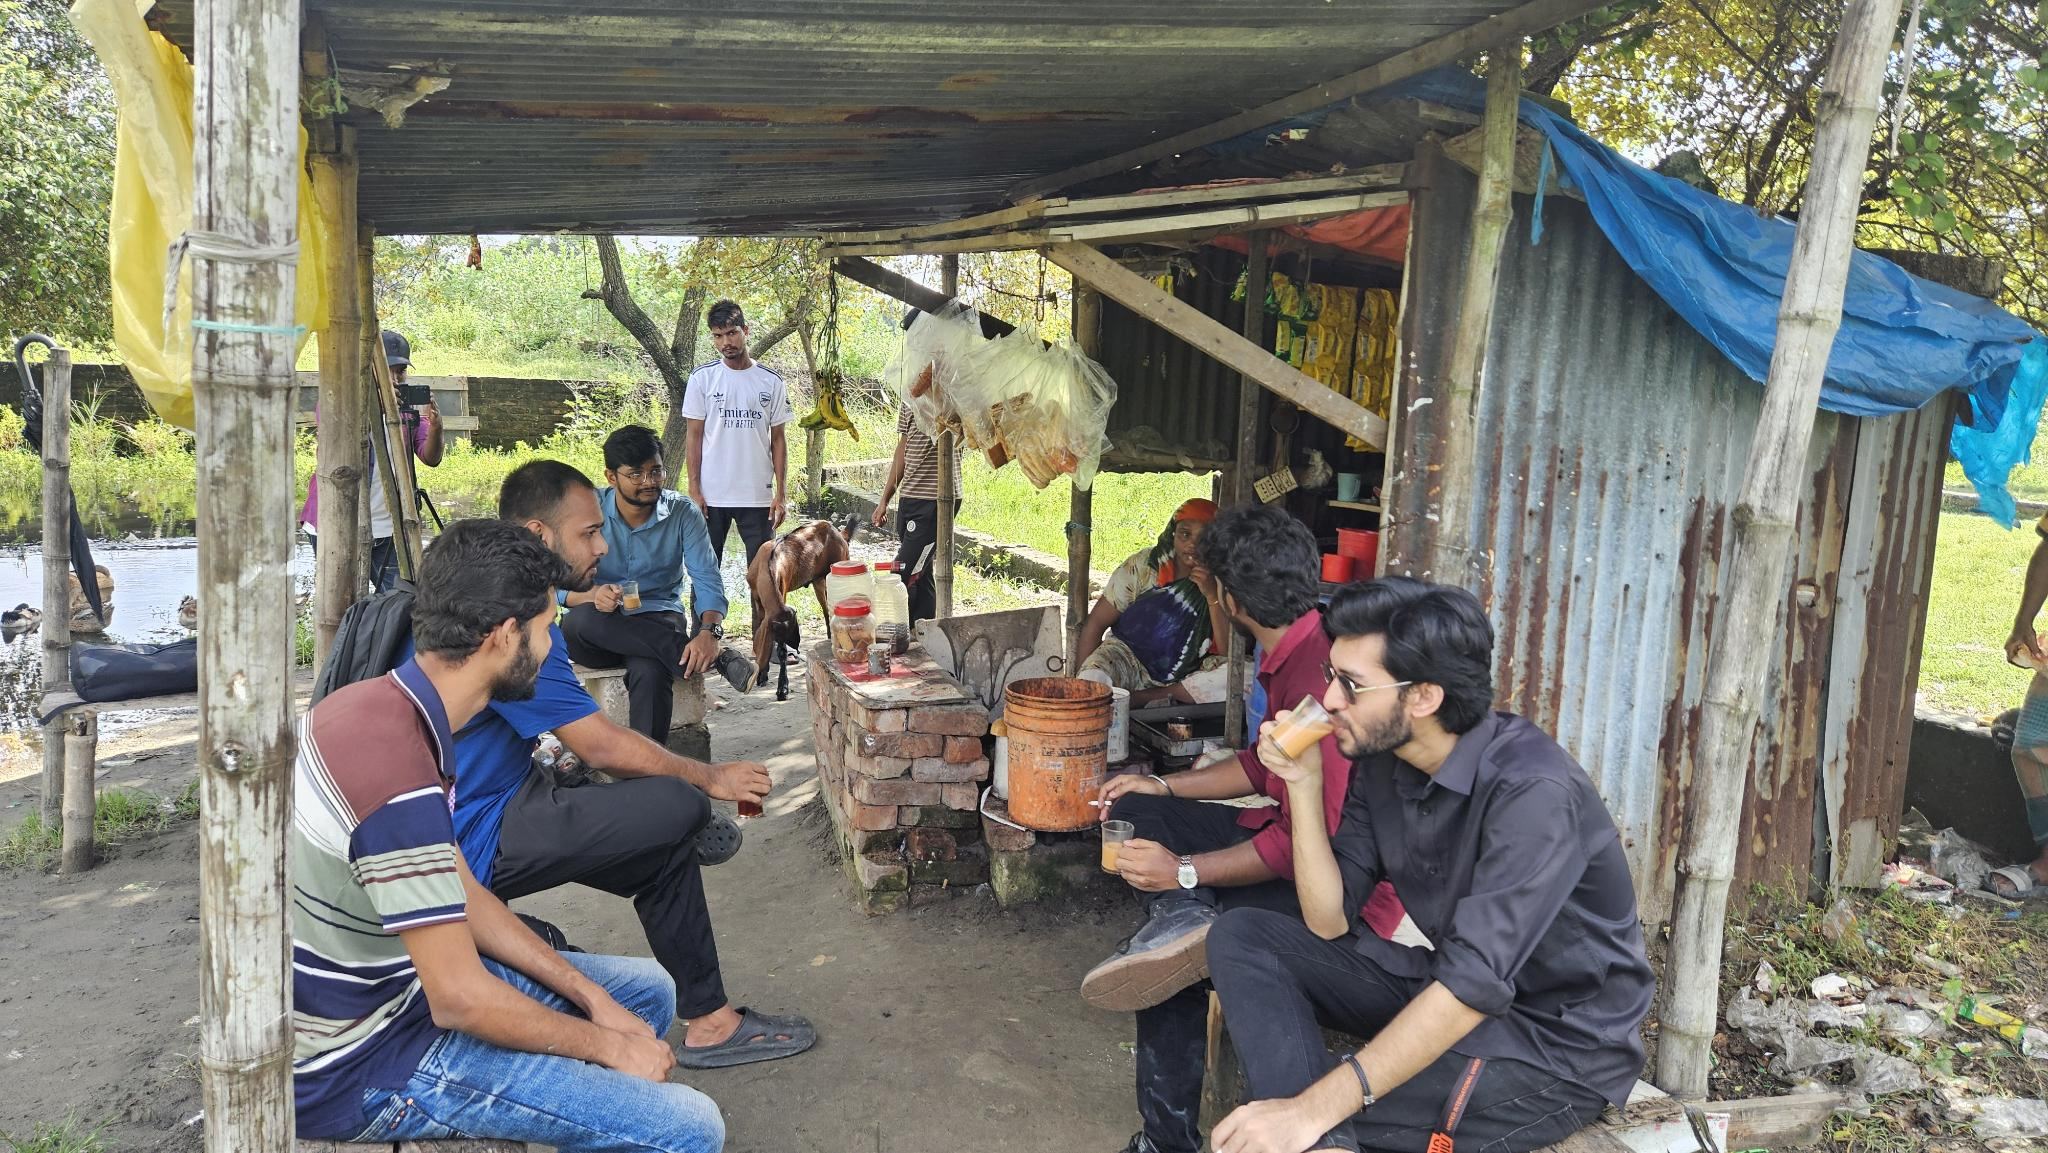cigarette: (1086, 799, 1114, 807)
nonSmoker: (309, 461, 819, 1070), (293, 519, 726, 1153), (1203, 581, 1654, 1153), (563, 425, 760, 744), (1075, 496, 1228, 707), (685, 299, 798, 557)
smoker: (1080, 506, 1346, 1153)
